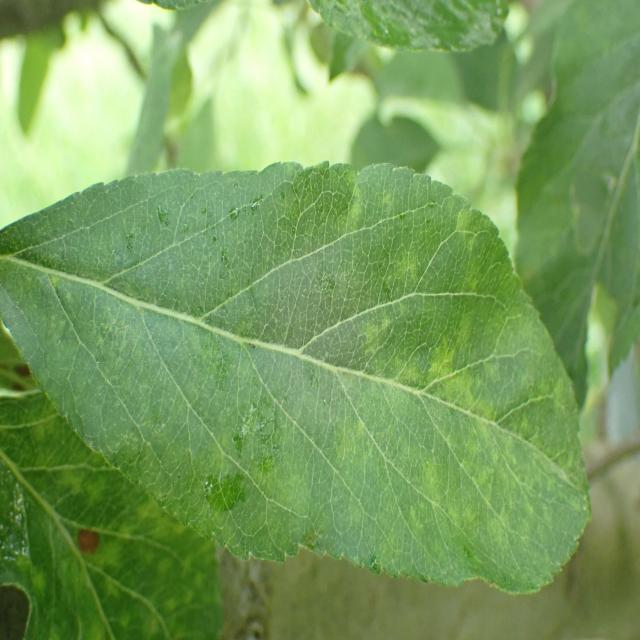scab: (9, 198, 556, 574)
